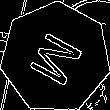M_SE: (23, 25, 88, 90)
